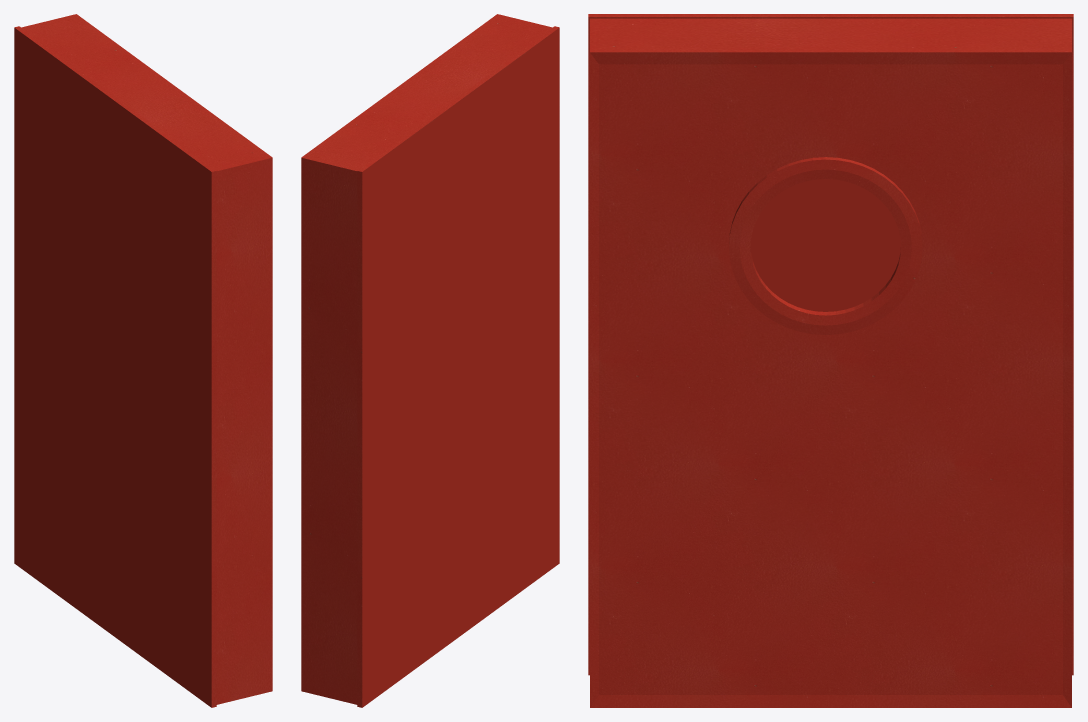
Rendered from Caixa_Incendio.fbx.
The picture shows the model from 3 angles, left to right: view 1: azimuth 30°, elevation 25°; view 2: azimuth 150°, elevation 25°; view 3: azimuth 270°, elevation 25°; orthographic projection. The views are drawn at different scales.
Parts seen in each view (by area): view 1: Caixa_Incendio; view 2: Caixa_Incendio; view 3: Caixa_Incendio.
Part boxes in pixels (<box>): Caixa_Incendio: <box>14,14,272,707</box>; Caixa_Incendio: <box>301,14,559,707</box>; Caixa_Incendio: <box>588,14,1073,707</box>.
Size of the model in its own units: 11.57 by 90.4 by 60.4.
1 material, 1 textured.
